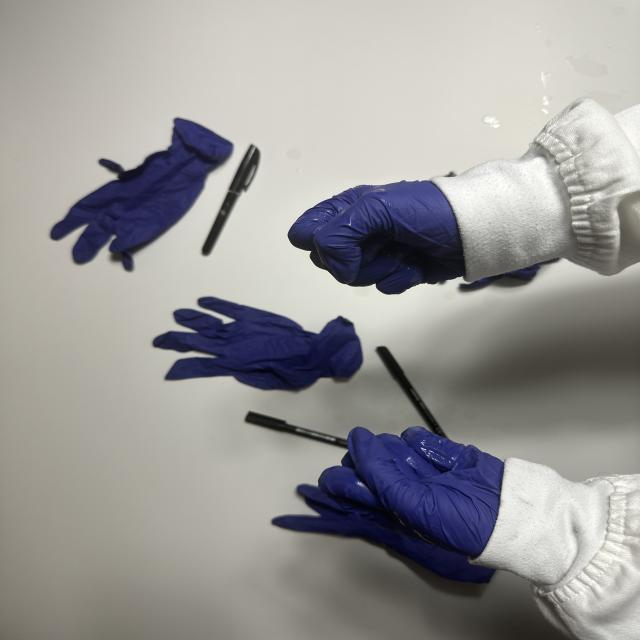gloves_contaminated: (319, 427, 503, 557), (289, 181, 465, 293)
